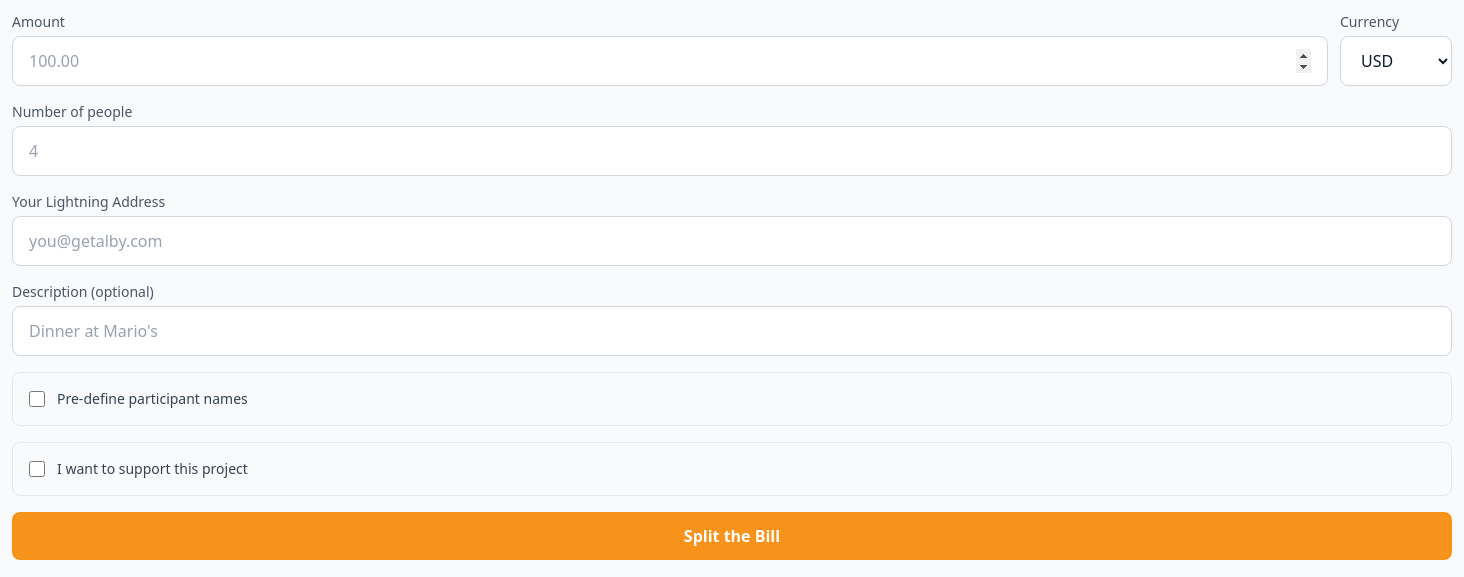
it: BillForm › disables button while submitting
Type "50" into the number field labelled "Amount".
click(670, 61); type("50")  # box [12,36,1328,86]
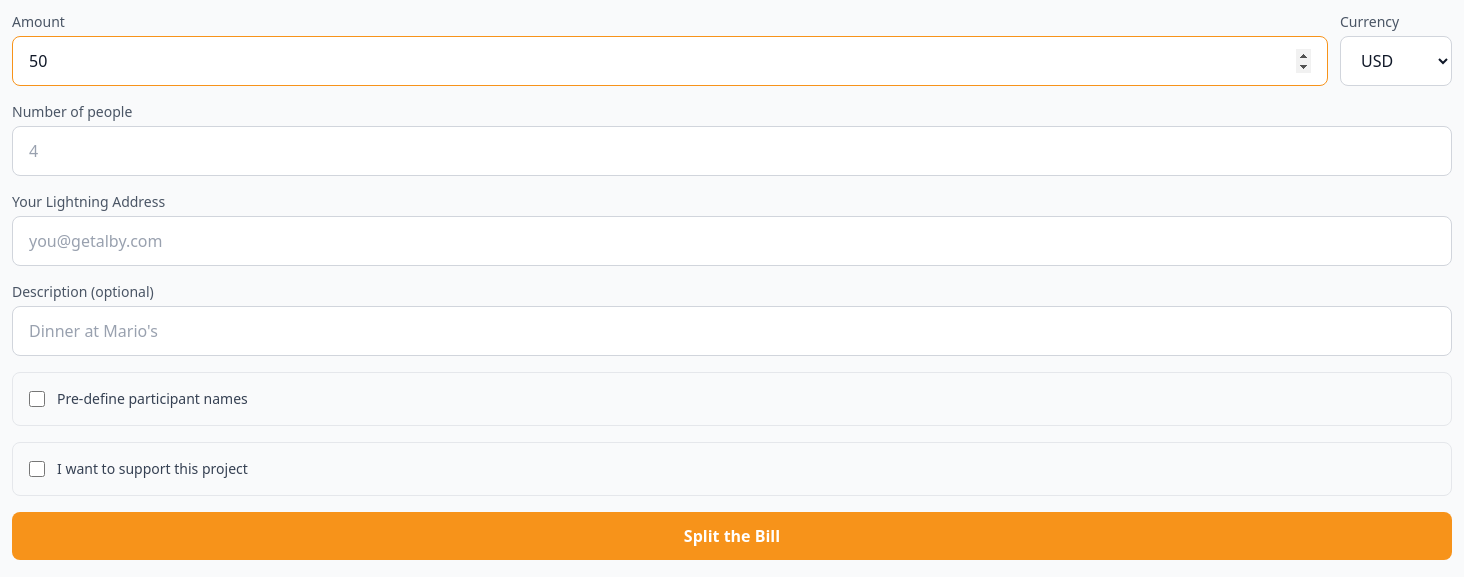
Type "2" into the number field labelled "Number of people".
click(732, 151); type("2")  # box [12,126,1452,176]
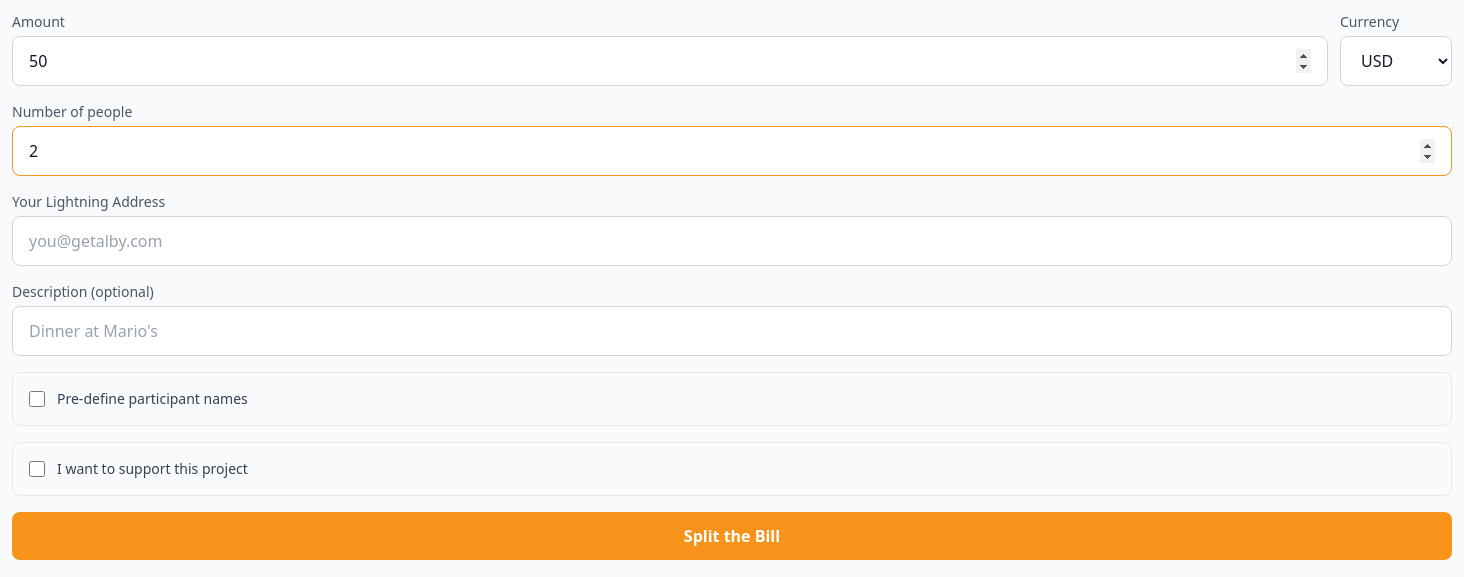
Type "a@b.com" into the field labelled "Your Lightning Address".
click(732, 241); type("a@b.com")  # box [12,216,1452,266]
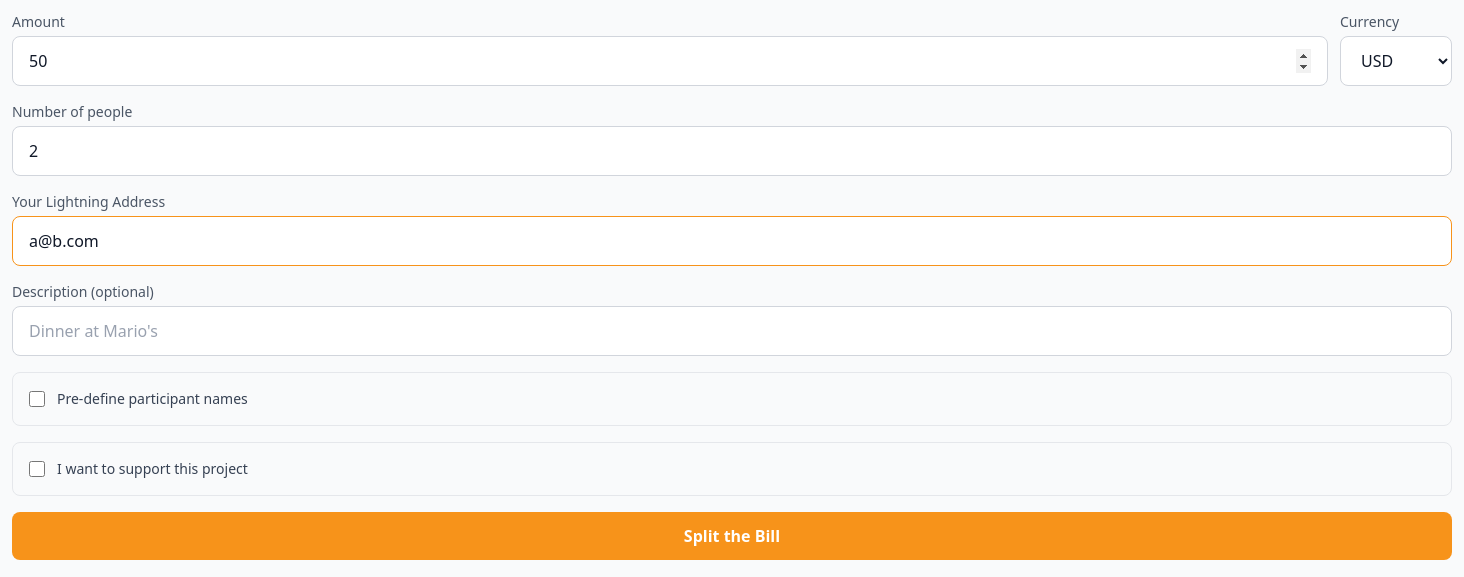
Click the button "Split the Bill".
click(732, 536)  # box [12,512,1452,560]
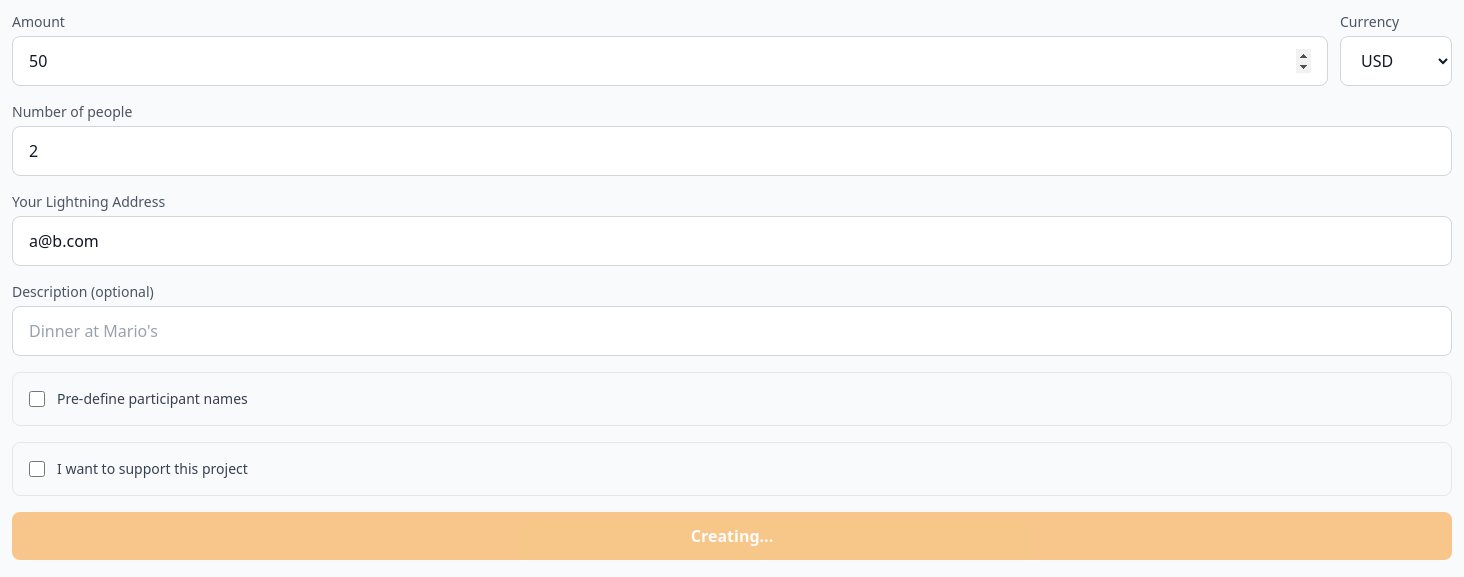
Expected: the button "Creating..." is disabled, [12,512,1452,560]
